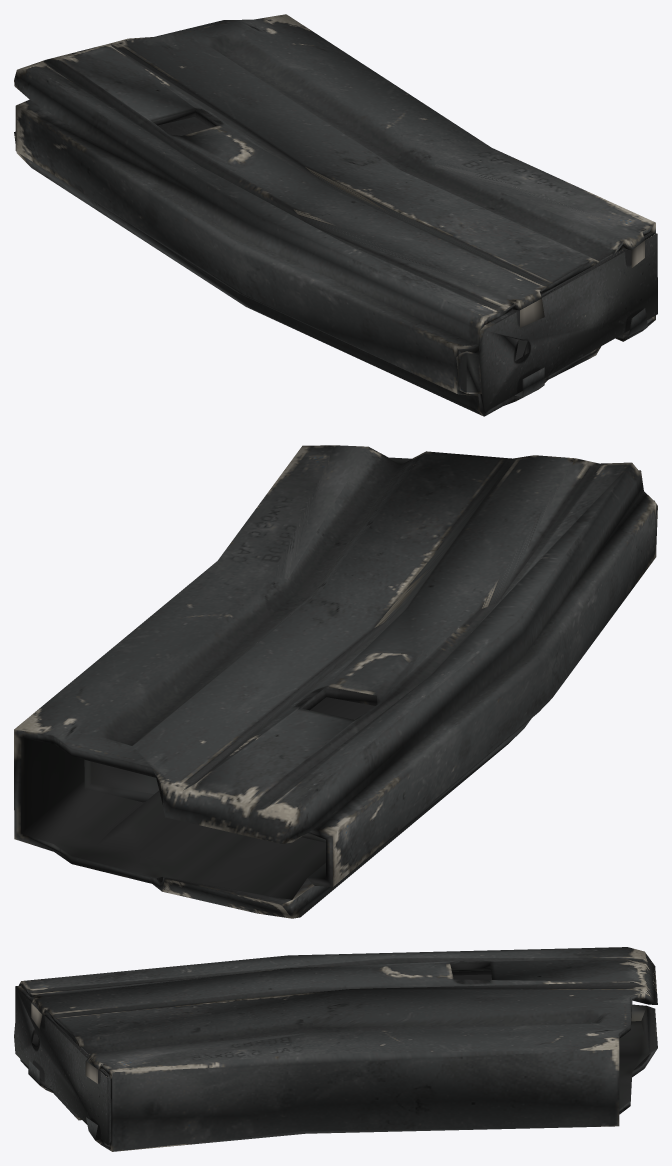
The model's file is Mag556.fbx.
The picture shows the model from 3 angles, top to bottom: view 1: azimuth 30°, elevation 25°; view 2: azimuth 150°, elevation 25°; view 3: azimuth 270°, elevation 25°; orthographic projection. The views are drawn at different scales.
Parts seen in each view (by area): view 1: Mag556; view 2: Mag556; view 3: Mag556.
Part boxes in pixels (x1,y1,x2,y2): Mag556: (14,14,657,416); Mag556: (14,445,657,918); Mag556: (14,947,657,1151).
Bounding box in the file's own units: 0.0475 × 0.0143 × 0.0967.
